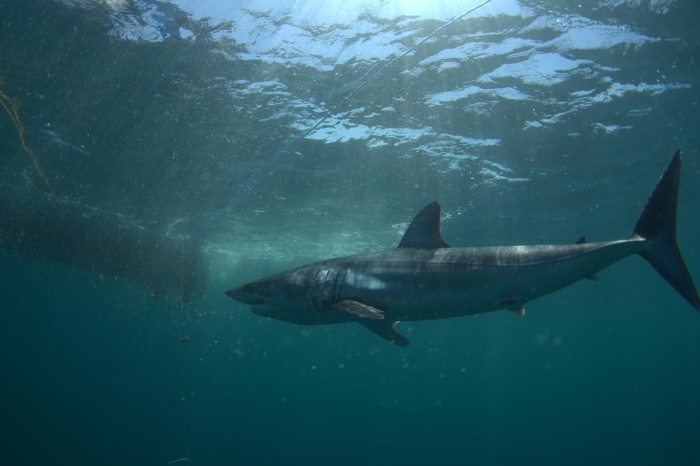Mako: (219, 143, 700, 354)
